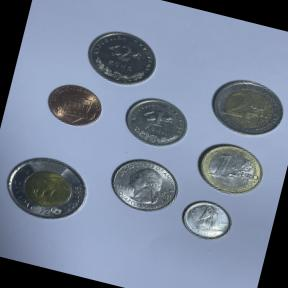coin: (0, 145, 96, 230), (200, 68, 288, 146), (76, 21, 166, 95), (101, 149, 186, 221), (188, 134, 271, 202), (40, 76, 109, 134), (174, 193, 238, 247)
